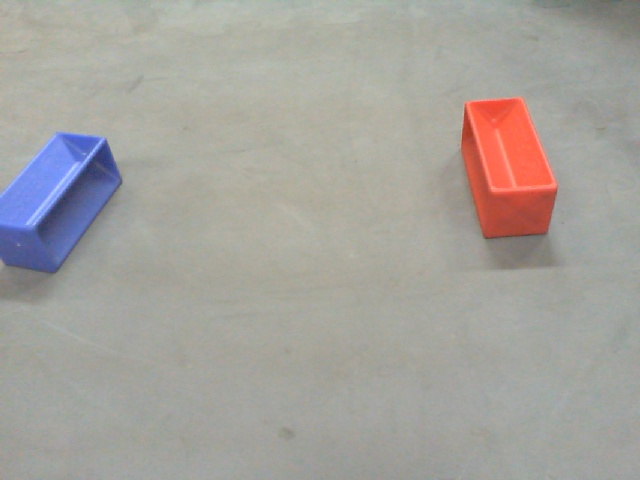BlueSample: (1, 129, 126, 276)
RedSample: (463, 97, 562, 243)
